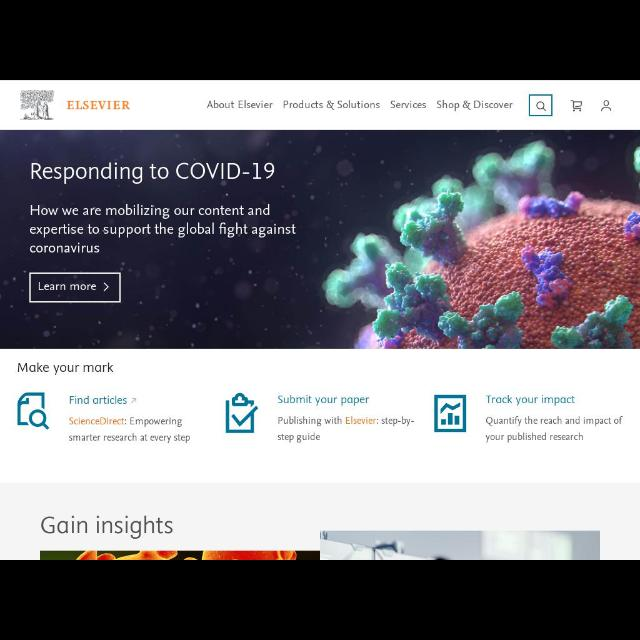backgroundimage: (1, 130, 640, 348)
button: (529, 94, 553, 116)
icon: (12, 390, 52, 432), (224, 392, 258, 436), (433, 394, 469, 434), (598, 95, 614, 114), (570, 98, 584, 114), (534, 100, 548, 114), (128, 395, 140, 405), (102, 280, 110, 294)
image: (19, 90, 131, 122)
text: (28, 202, 298, 256), (28, 159, 278, 185), (482, 414, 626, 444), (277, 415, 417, 445), (37, 512, 176, 542), (66, 415, 192, 445), (16, 360, 116, 378), (283, 98, 381, 114), (275, 394, 371, 410), (485, 393, 577, 409), (434, 98, 514, 112), (206, 97, 274, 113), (36, 278, 98, 294), (68, 393, 128, 407), (389, 98, 427, 112)
textbutton: (31, 274, 121, 300)
toolbar: (1, 80, 640, 130)
